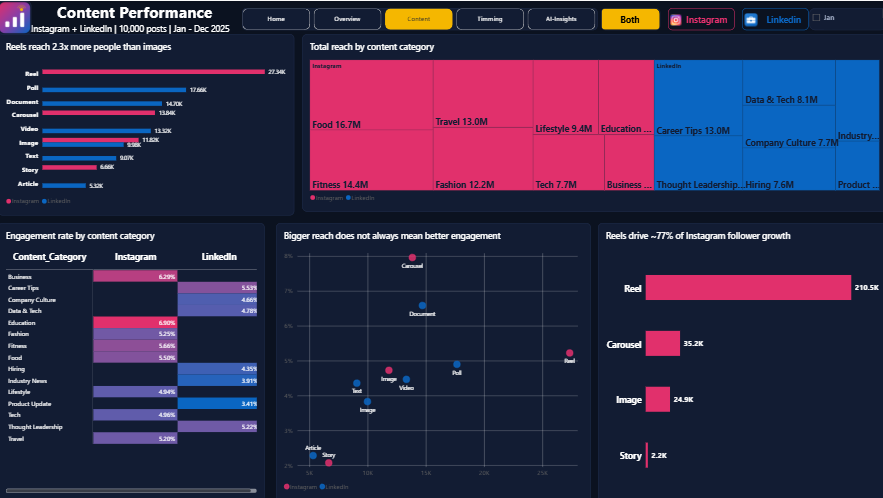

The dashboard page shown, as its layout file describes it:
{"tool":"powerbi","page":{"name":"Content","canvas":[1920,1080],"ordinal":2},"visuals":[{"type":"textbox","title":"   Content Performance","box":[72,0,448,80],"z":0},{"type":"image","box":[0,0,72,72],"z":1000},{"type":"pageNavigator","box":[528,16,768,48],"z":2000},{"type":"actionButton","box":[1303,14.5,128,48],"z":3000},{"type":"actionButton","box":[1447,14.5,144,48],"z":4000},{"type":"actionButton","box":[1607,14.5,144,48],"z":5000},{"type":"slicer","fields":{"Values":["Dim_Date.Month"]},"box":[1752,16,168,48],"z":6000},{"type":"clusteredBarChart","title":"Reels reach 2.3x more people than images","fields":{"Category":["Posts.Post_Type"],"Series":["Posts.Platform"],"Y":["_Measures.Avg Reach per Post"]},"box":[0,72,640,392],"z":7000},{"type":"pivotTable","title":"Engagement rate by content category","fields":{"Columns":["Posts.Platform"],"Rows":["Posts.Content_Category"],"Values":["_Measures.Engagement Rate"]},"box":[0,480,576,600],"z":8000},{"type":"treemap","title":"Total reach by content category","fields":{"Details":["Posts.Content_Category"],"Group":["Posts.Platform"],"Values":["_Measures.Total Reach"]},"box":[656,72,1264,384],"z":9000},{"type":"scatterChart","title":"Bigger reach does not always mean better engagement","fields":{"Category":["Posts.Post_Type"],"Series":["Posts.Platform"],"X":["_Measures.Avg Reach per Post"],"Y":["_Measures.Engagement Rate"]},"box":[600,480,680,600],"z":10000},{"type":"clusteredBarChart","title":"Reels drive ~77% of Instagram follower growth","fields":{"Category":["Posts.Post_Type"],"Y":["_Measures.Followers Gained"]},"box":[1296,480,624,600],"z":11000}]}

Visuals, with their boxes in screenshot pixels (x1, y1, x2, y2), scaled from the page's 1920x1080 canvas onto the 883x498 screenshot:
"   Content Performance" textbox: 33,0,239,37
image: 0,0,33,33
pageNavigator: 243,7,596,30
actionButton: 599,7,658,29
actionButton: 665,7,732,29
actionButton: 739,7,805,29
slicer - Dim_Date.Month: 806,7,882,30
"Reels reach 2.3x more people than images" clusteredBarChart: 0,33,294,214
"Engagement rate by content category" pivotTable: 0,221,265,497
"Total reach by content category" treemap: 302,33,882,210
"Bigger reach does not always mean better engagement" scatterChart: 276,221,589,497
"Reels drive ~77% of Instagram follower growth" clusteredBarChart: 596,221,882,497
